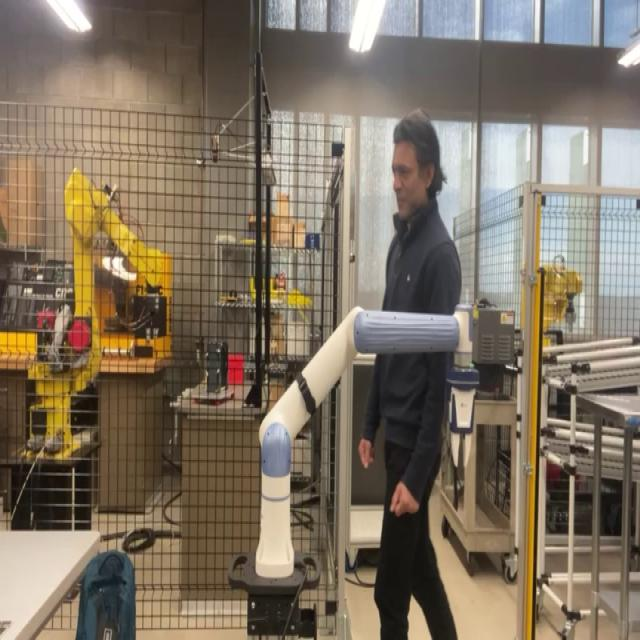human: (357, 108, 462, 639)
